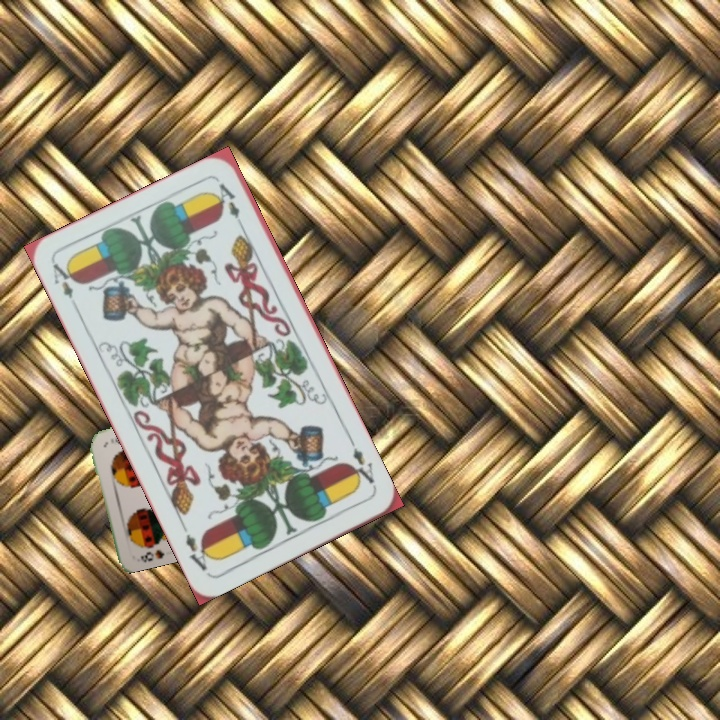EA: (48, 259, 82, 313), (344, 443, 379, 491)
S8: (136, 546, 167, 565)
